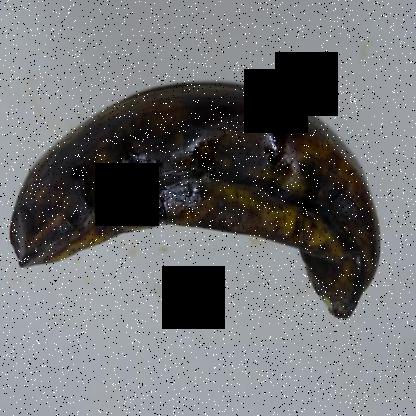rotten: (0, 73, 389, 344)
